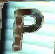Parking: (7, 6, 44, 53)
